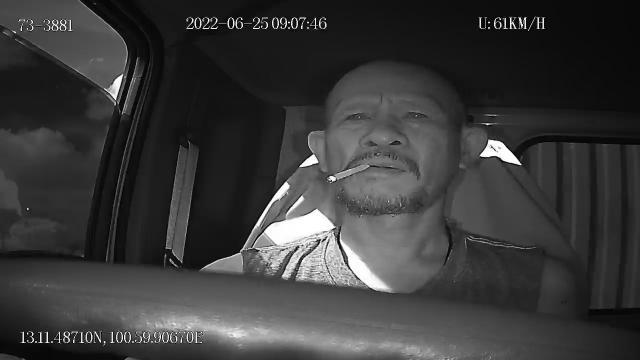SafeDriving: (394, 100, 436, 128), (337, 101, 378, 129)
Smoking: (326, 164, 369, 182)
